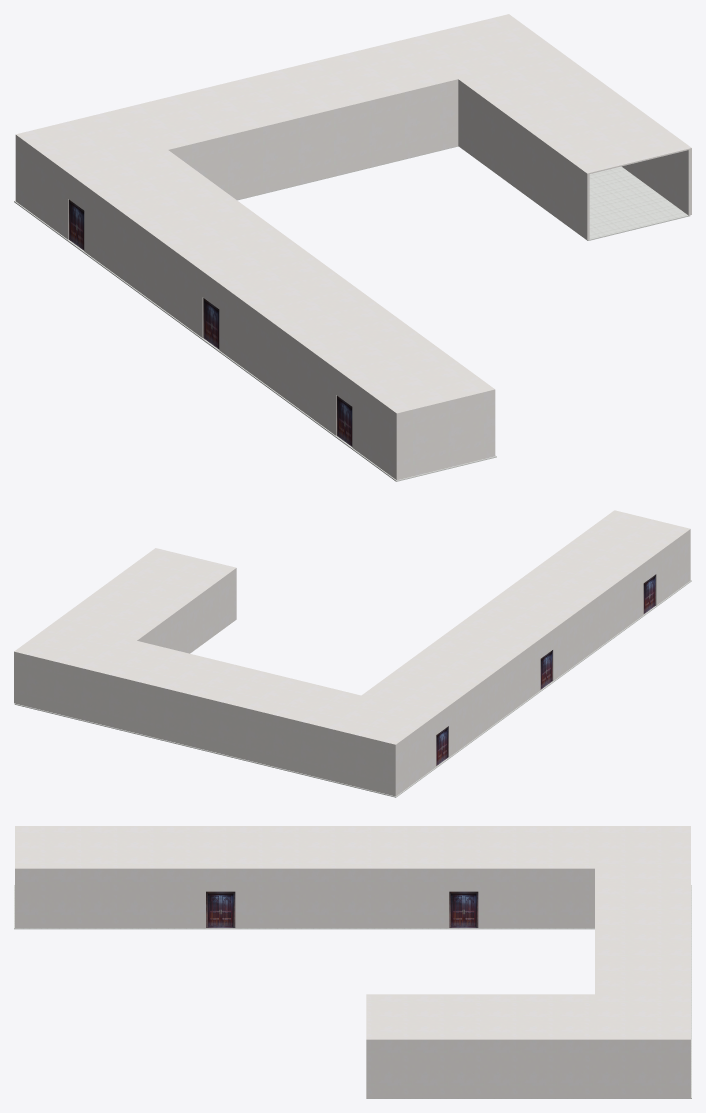
The model's file is ZouLang.FBX.
The picture shows the model from 3 angles, top to bottom: view 1: azimuth 30°, elevation 25°; view 2: azimuth 150°, elevation 25°; view 3: azimuth 270°, elevation 25°; orthographic projection. The views are drawn at different scales.
Visible parts, largest first — view 1: QiangBi01, QiangBi02, QiangBi06, DiBan05, QiangBi03, DiBan06; view 2: QiangBi01, QiangBi02, QiangBi06, DiBan06; view 3: QiangBi01, QiangBi06, QiangBi02, DiBan06.
Part boxes in pixels (x1,y1,x2,y2): QiangBi01: (15,111,495,479); QiangBi02: (112,39,458,199); QiangBi06: (404,14,691,240); DiBan05: (589,166,687,239); QiangBi03: (622,150,688,215); DiBan06: (14,146,690,481); QiangBi01: (321,510,690,796); QiangBi02: (95,641,362,778); QiangBi06: (14,548,236,722); DiBan06: (14,580,691,797); QiangBi01: (15,826,690,927); QiangBi06: (366,994,690,1098); QiangBi02: (595,867,690,994); DiBan06: (14,885,691,1098).
Bounding box in the file's own units: 27906 × 3658 × 37380.
Materials: 9 (9 with a texture image).
